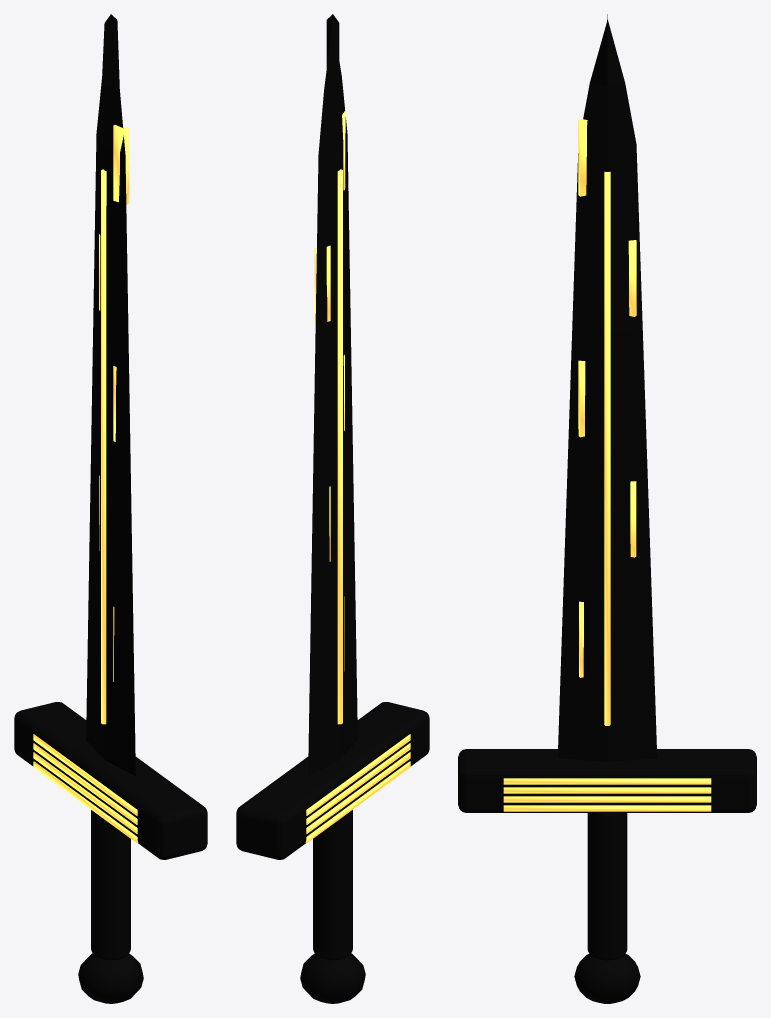
Rendered from espada_cortafuegos.glb.
3 renders of one model, left to right at view 1: azimuth 30°, elevation 25°; view 2: azimuth 150°, elevation 25°; view 3: azimuth 270°, elevation 25°, orthographic.
Visible parts, largest first — view 1: espada_cortafuegos; view 2: espada_cortafuegos; view 3: espada_cortafuegos.
Boxes of the visible parts, box(x1,y1,x2,y2) form: espada_cortafuegos: box(14, 14, 207, 1003); espada_cortafuegos: box(236, 14, 429, 1003); espada_cortafuegos: box(458, 14, 756, 1003).
Bounding box in the file's own units: 0.078 × 1.31 × 0.36.
Materials: 2 (1 with a texture image).
